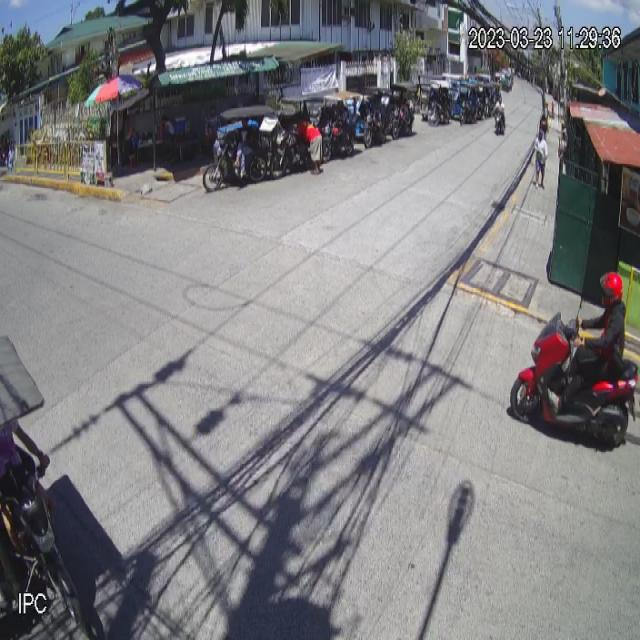Motorcycle: (510, 311, 640, 448)
